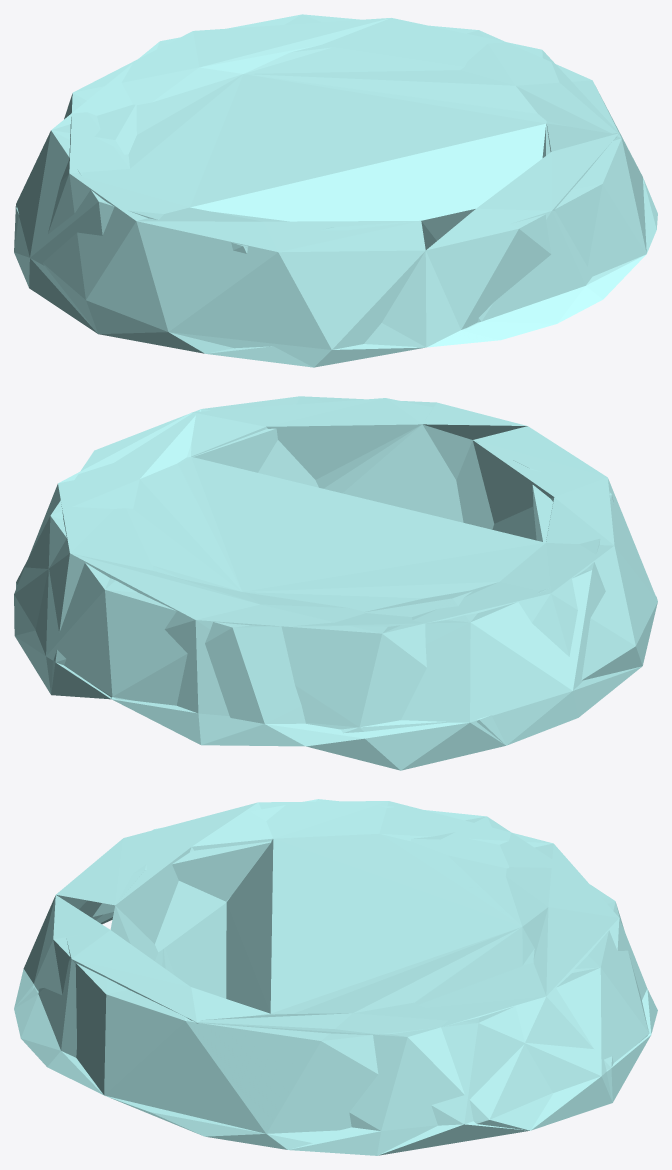
File: lid.fbx
3 renders of one model, top to bottom at view 1: azimuth 30°, elevation 25°; view 2: azimuth 150°, elevation 25°; view 3: azimuth 270°, elevation 25°, orthographic.
Visible parts, largest first — view 1: lid; view 2: lid; view 3: lid.
Boxes of the visible parts, x1,y1,x2,y2 form: lid: (14, 14, 657, 367); lid: (14, 396, 657, 770); lid: (14, 799, 657, 1155).
Bounding box in the file's own units: 15.8 × 3.32 × 15.97.
